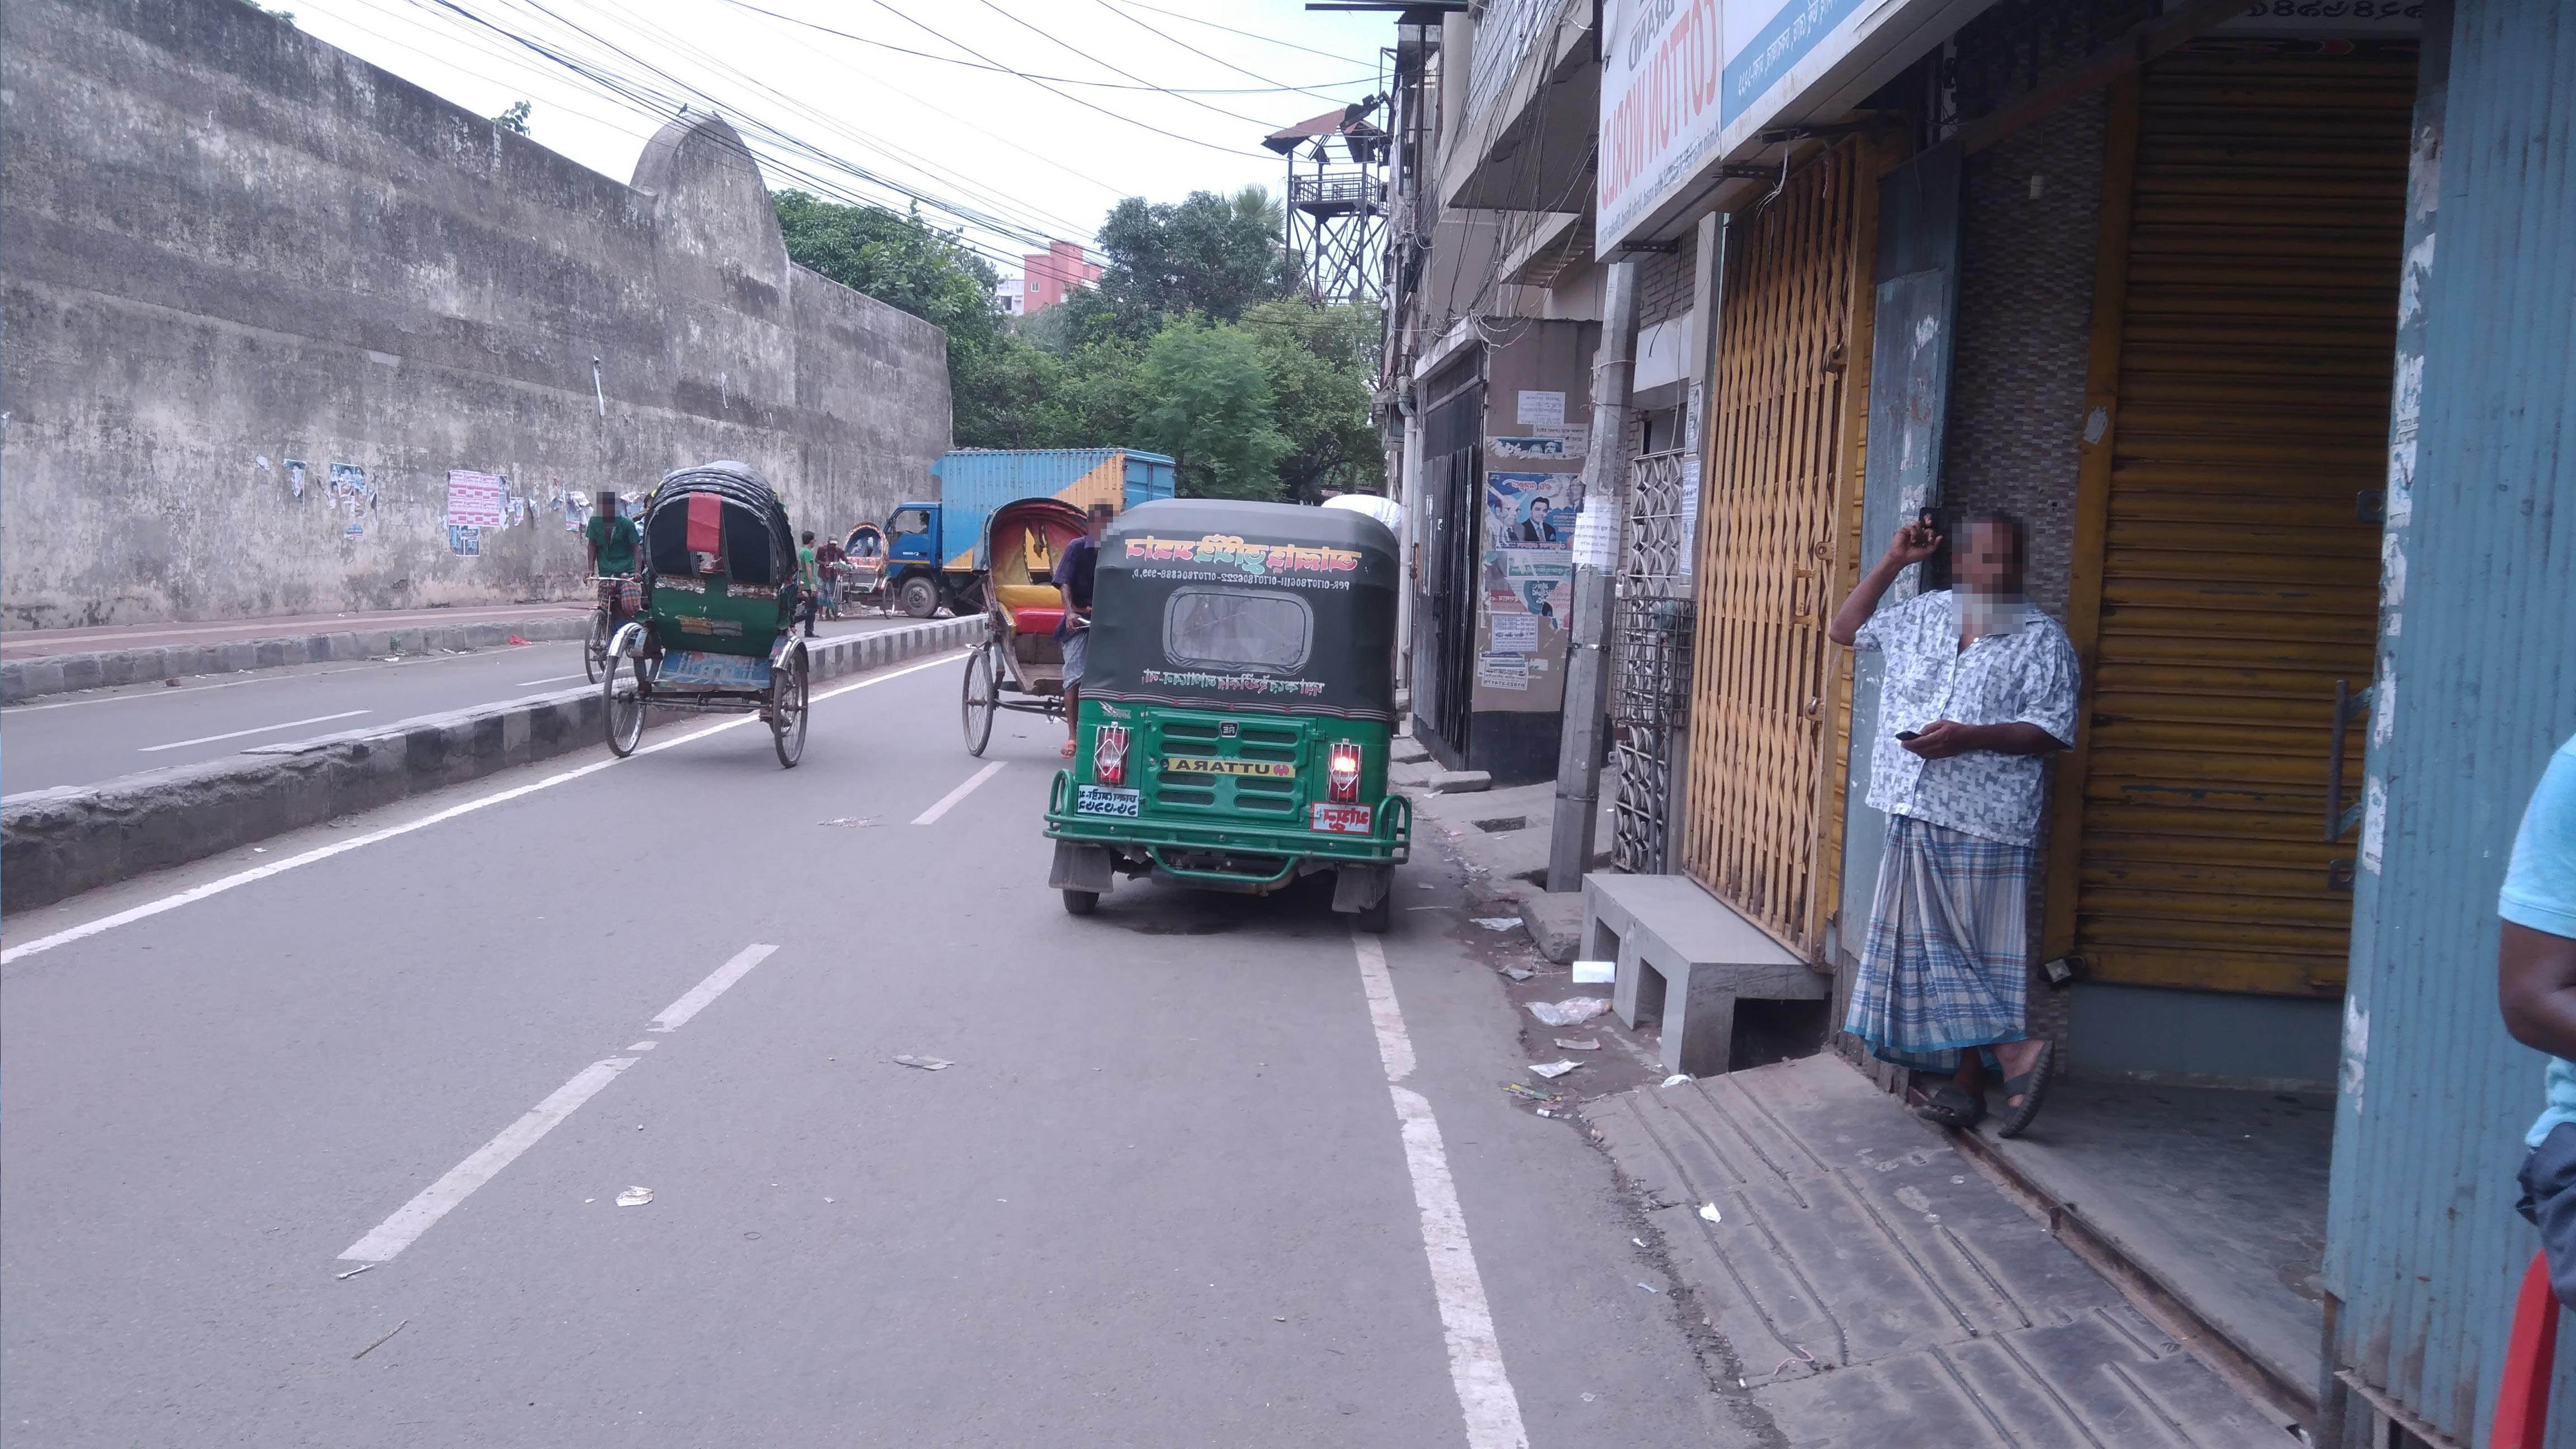cng: (1040, 499, 1430, 931)
rickshaw: (596, 460, 817, 784), (961, 481, 1085, 773), (823, 529, 911, 617)
truck: (878, 435, 1168, 600)
